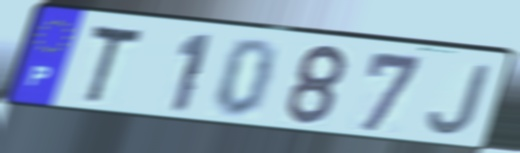0: (213, 38, 282, 121)
1: (169, 31, 216, 115)
7: (361, 48, 427, 135)
8: (284, 44, 347, 129)
J: (425, 62, 495, 138)
T: (85, 21, 146, 109)
